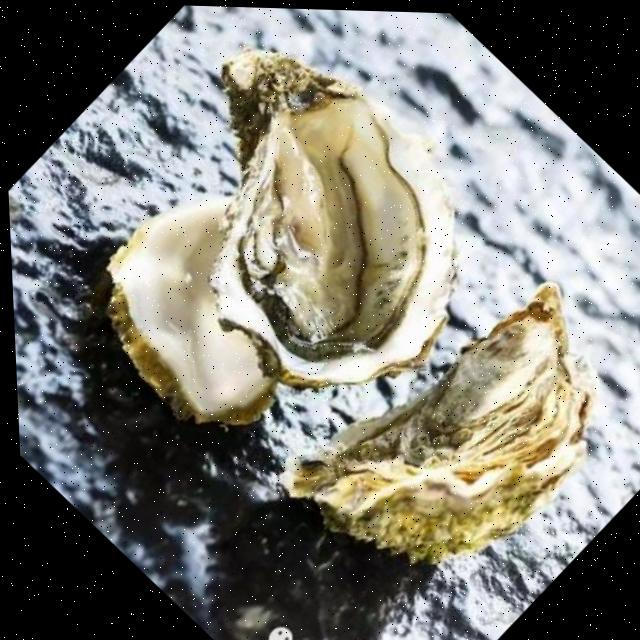Oyster-Indeterminate: (254, 224, 640, 639)
Oyster-Open: (82, 2, 550, 454), (56, 159, 367, 466)
